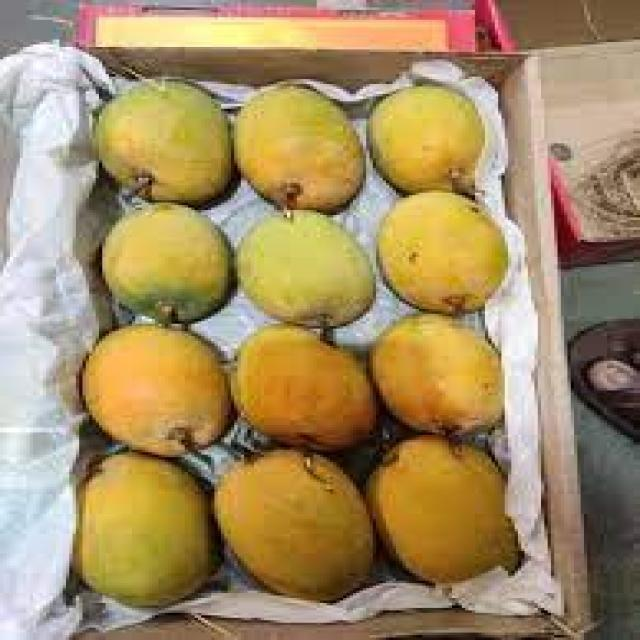Mango: (215, 444, 379, 606), (72, 450, 220, 610), (368, 432, 518, 584), (78, 326, 236, 461), (231, 327, 377, 454), (94, 81, 235, 206), (373, 312, 508, 439), (237, 85, 367, 216), (230, 215, 378, 327), (378, 191, 514, 309), (103, 208, 237, 326), (366, 88, 489, 192)
